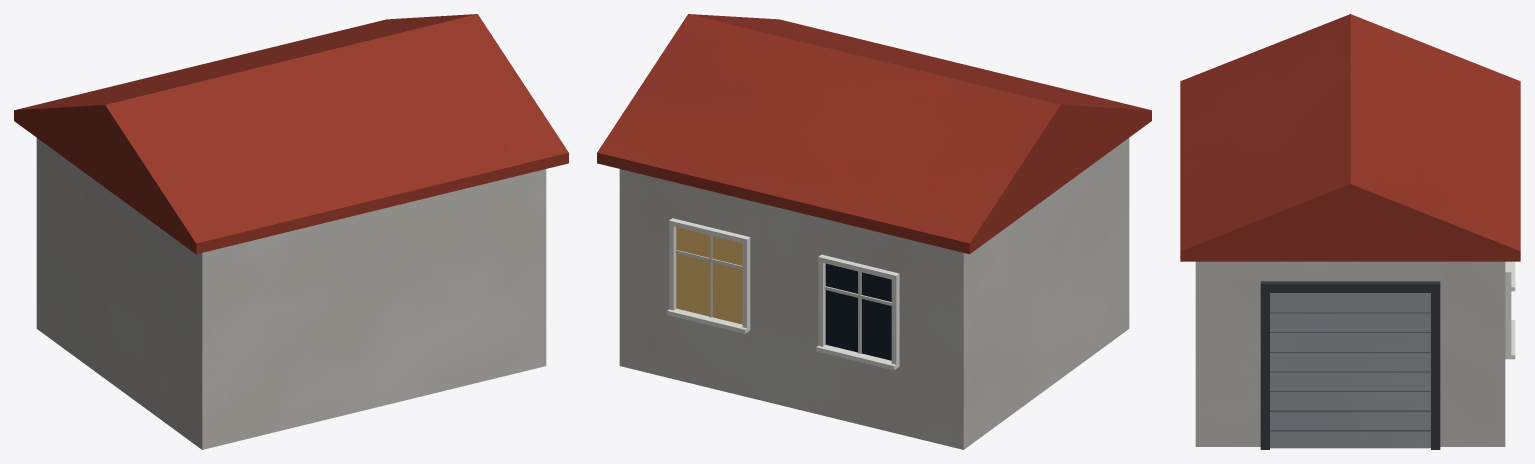
Rendered from pv_hala_mala.glb.
The picture shows the model from 3 angles, left to right: view 1: azimuth 30°, elevation 25°; view 2: azimuth 150°, elevation 25°; view 3: azimuth 270°, elevation 25°; orthographic projection. The views are drawn at different scales.
Visible parts, largest first — view 1: dum; view 2: dum, noc; view 3: dum.
Part boxes in pixels (left/top/right/bottom): dum: left=14, top=14, right=568, bottom=449; dum: left=597, top=14, right=1151, bottom=449; noc: left=676, top=227, right=742, bottom=324; dum: left=1180, top=14, right=1520, bottom=449.
Bounding box in the file's own units: 6.48 × 4.79 × 5.49.
1 material, 1 textured.
